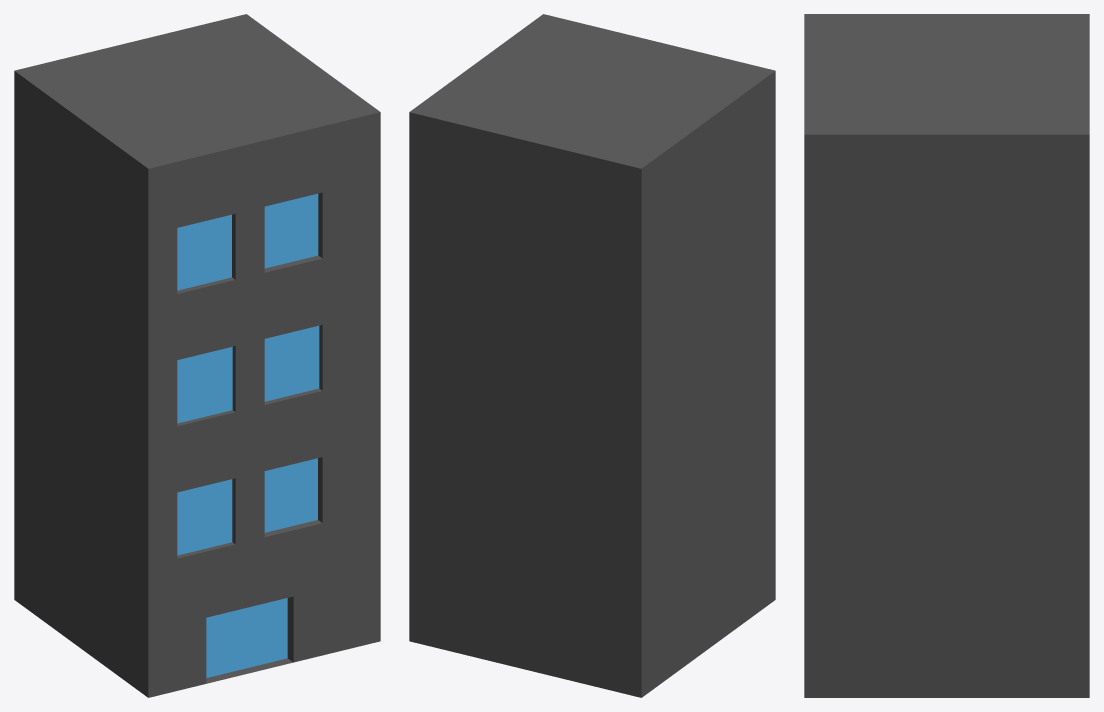
Rendered from field_obj_bill001.obj.
The picture shows the model from 3 angles, left to right: view 1: azimuth 30°, elevation 25°; view 2: azimuth 150°, elevation 25°; view 3: azimuth 270°, elevation 25°; orthographic projection. The views are drawn at different scales.
Parts seen in each view (by area): view 1: pCube1; view 2: pCube1; view 3: pCube1.
Boxes of the visible parts, bbox=[...] form: pCube1: bbox=[14, 14, 380, 697]; pCube1: bbox=[409, 14, 775, 697]; pCube1: bbox=[804, 14, 1089, 697].
Bounding box in the file's own units: 2.72 × 5.91 × 2.72.
